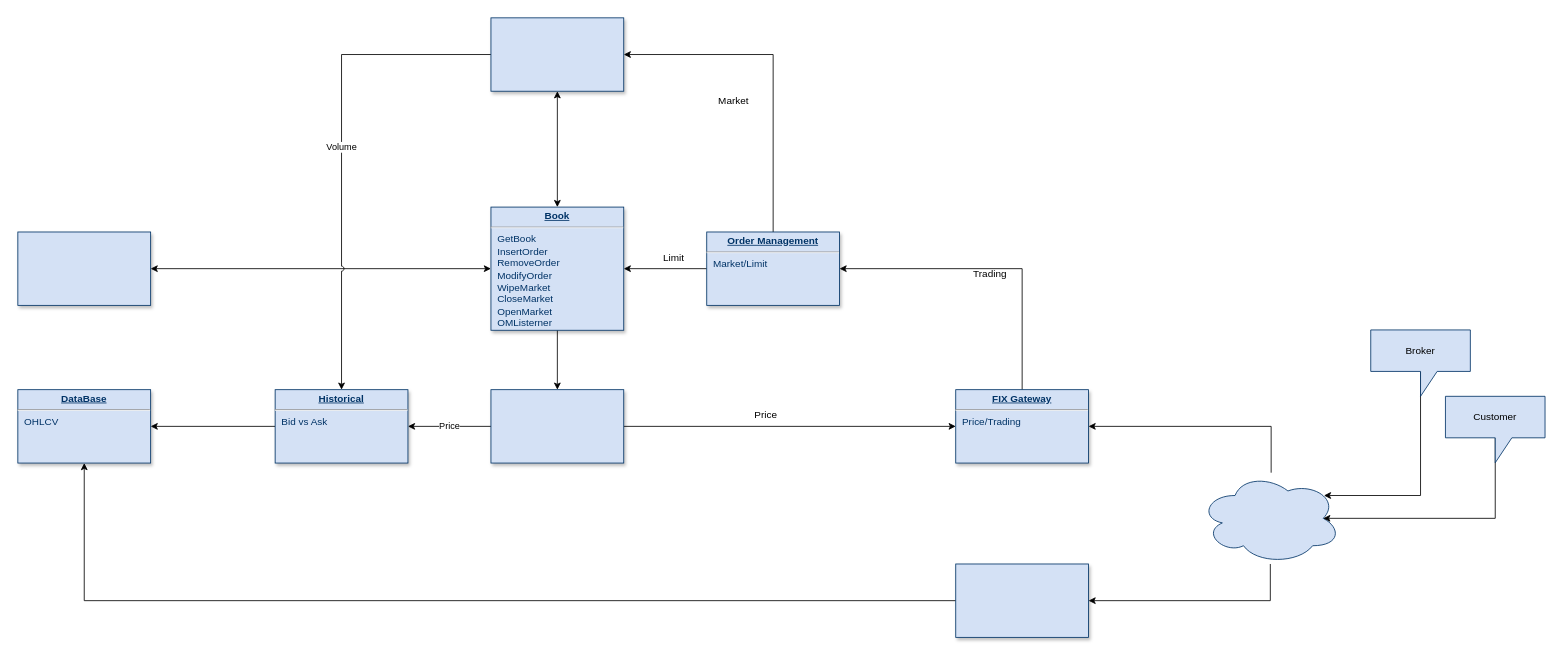
This 1560x658 diagram has some shape labels left out. Here are the shapes that lost their labels. From the top down, the centre of each, then its label:
At point 558,55: "Order Matching".
At point 85,269: "In Memory DataBase Market Books".
At point 558,427: "Price Bid vs Ask".
At point 1023,601: "Historical Gateway Rest API".
